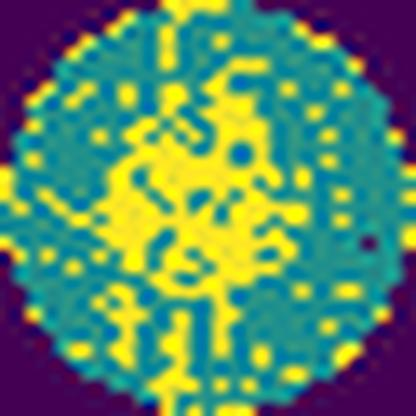Center: (39, 58, 306, 357)
